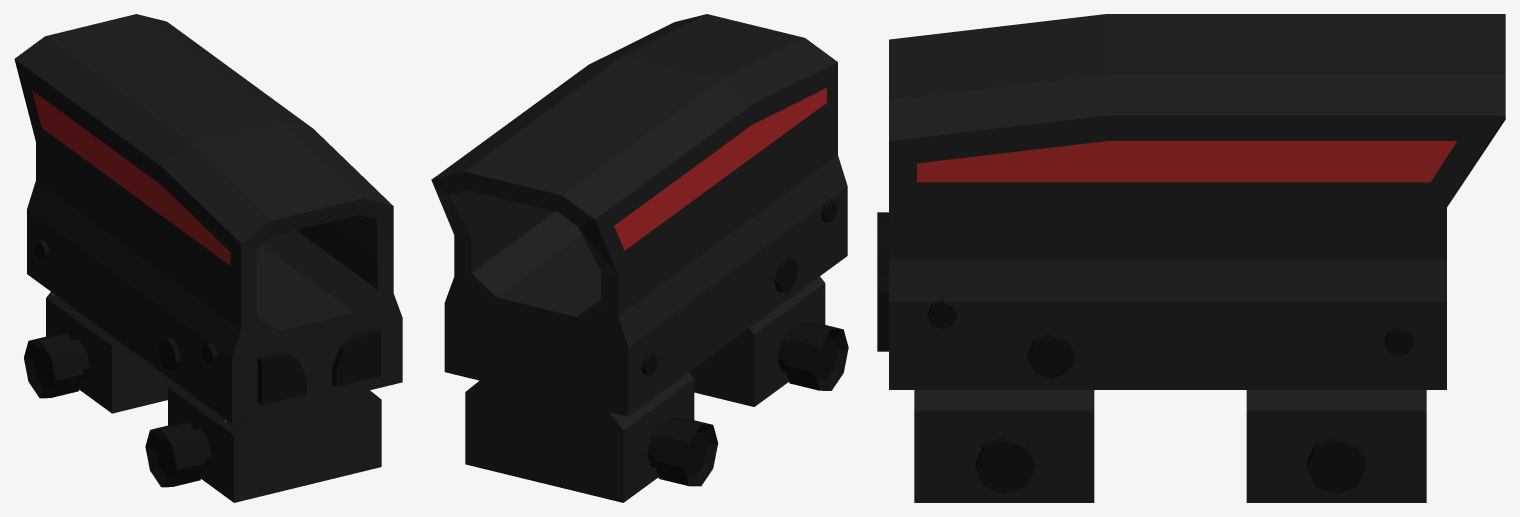
Rendered from Holographic_East.glb.
3 renders of one model, left to right at view 1: azimuth 30°, elevation 25°; view 2: azimuth 150°, elevation 25°; view 3: azimuth 270°, elevation 25°, orthographic. The views are drawn at different scales.
Visible parts, largest first — view 1: Holographic_East; view 2: Holographic_East; view 3: Holographic_East.
Part boxes in pixels (x1=…): Holographic_East: x1=14, y1=14, x2=402, y2=502; Holographic_East: x1=431, y1=14, x2=848, y2=502; Holographic_East: x1=877, y1=14, x2=1505, y2=502.
Size of the model in its own units: 0.0386 by 0.0546 by 0.0759.
